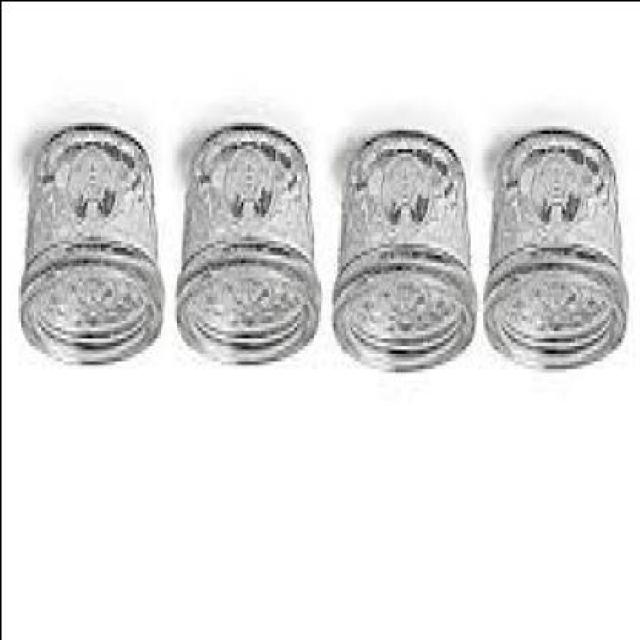GLASS: (330, 130, 473, 378), (480, 128, 625, 372), (173, 128, 315, 372), (17, 125, 158, 364)
